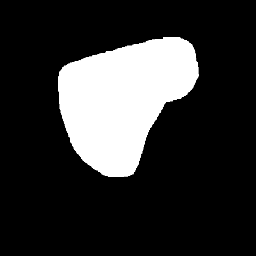mass: (61, 36, 195, 175)
